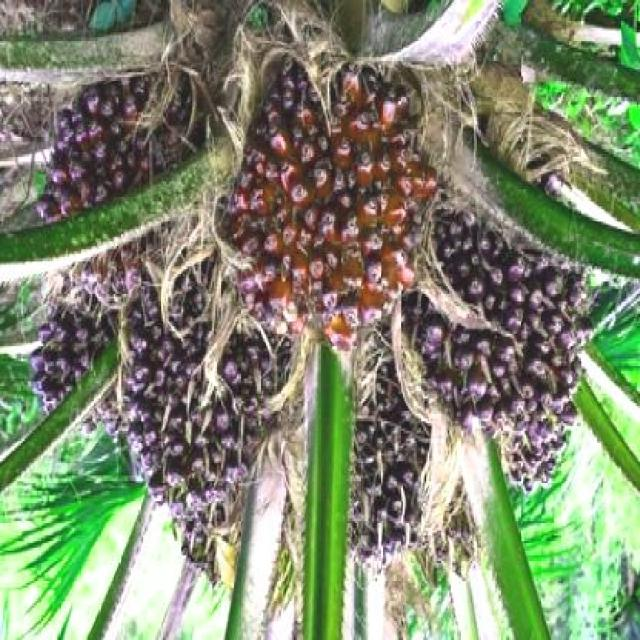palm-oil: (405, 199, 597, 491), (238, 61, 441, 336), (122, 260, 292, 574), (26, 33, 227, 219), (329, 327, 477, 552), (39, 269, 158, 405)
